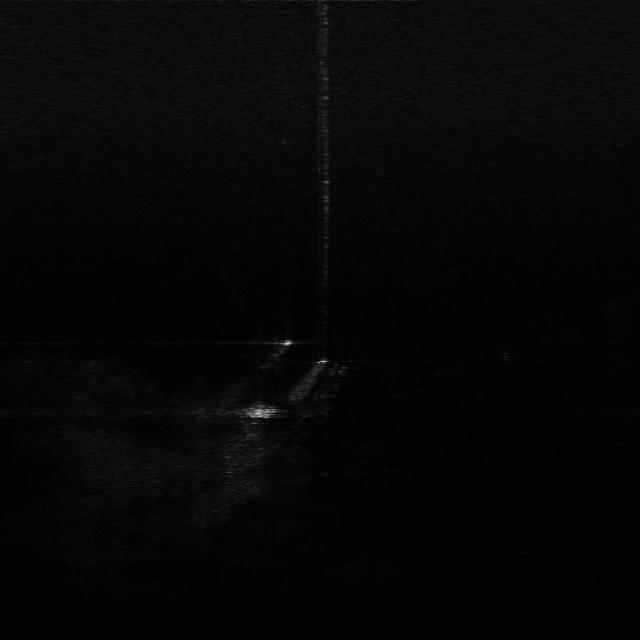rov: (242, 402, 279, 420)
